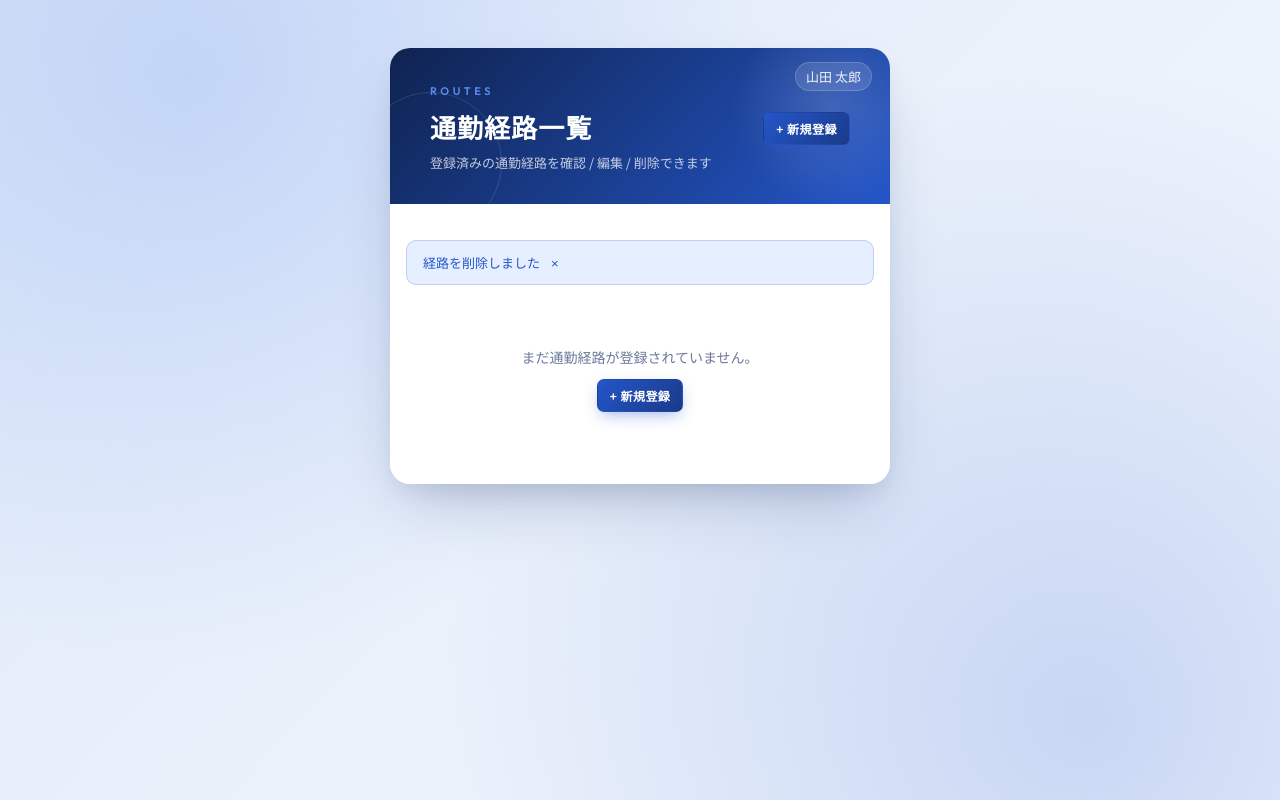
Test: RouteList › 通知バナーの「×」で notice を閉じられる
Expected: the text "経路を削除しました ×" is shown, [406,240,874,285]
Click the button named "通知を閉じる" at coordinates (555, 264), box [551,256,558,271]
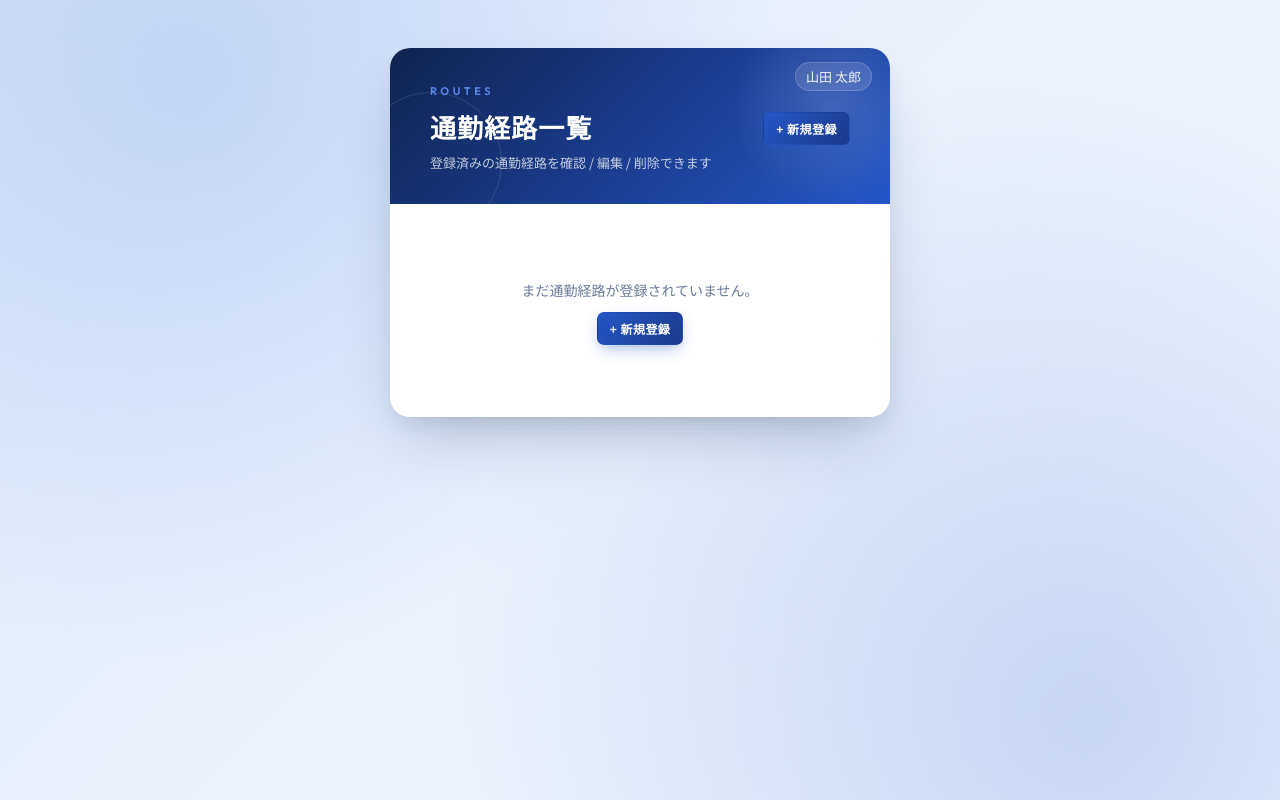
Now the text "経路を削除しました" is gone
